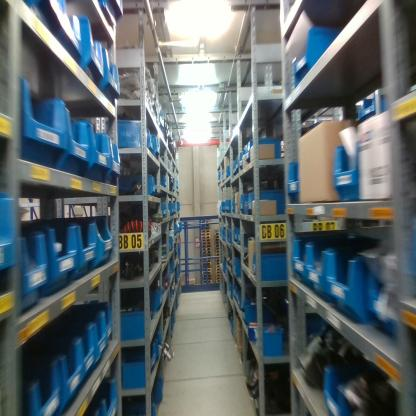pallet: (202, 280, 213, 285), (200, 220, 213, 224), (201, 229, 211, 234), (202, 257, 211, 262), (202, 262, 213, 266), (201, 266, 212, 270), (201, 273, 212, 277), (201, 236, 211, 240), (201, 245, 211, 249), (200, 224, 210, 228), (201, 277, 213, 280), (201, 242, 212, 245), (203, 249, 211, 253), (201, 270, 211, 273), (203, 253, 212, 256), (216, 279, 222, 283), (215, 235, 221, 239), (215, 262, 222, 265), (214, 241, 221, 244), (214, 239, 221, 242), (201, 233, 211, 235), (216, 255, 221, 259), (216, 259, 222, 262), (215, 252, 221, 255), (216, 277, 221, 280), (215, 265, 220, 268), (216, 244, 221, 247), (216, 274, 220, 277), (216, 271, 220, 274), (216, 268, 220, 271), (216, 247, 220, 250), (215, 232, 219, 235), (201, 240, 212, 241), (215, 250, 220, 252)
